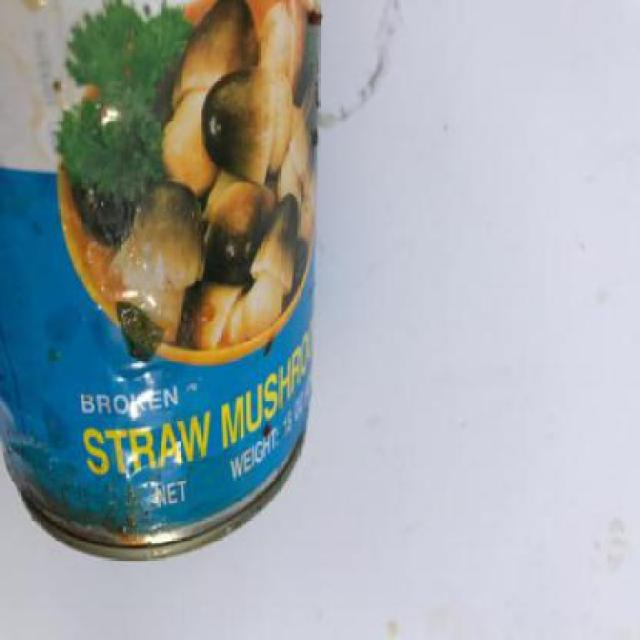METAL: (1, 1, 322, 562)
